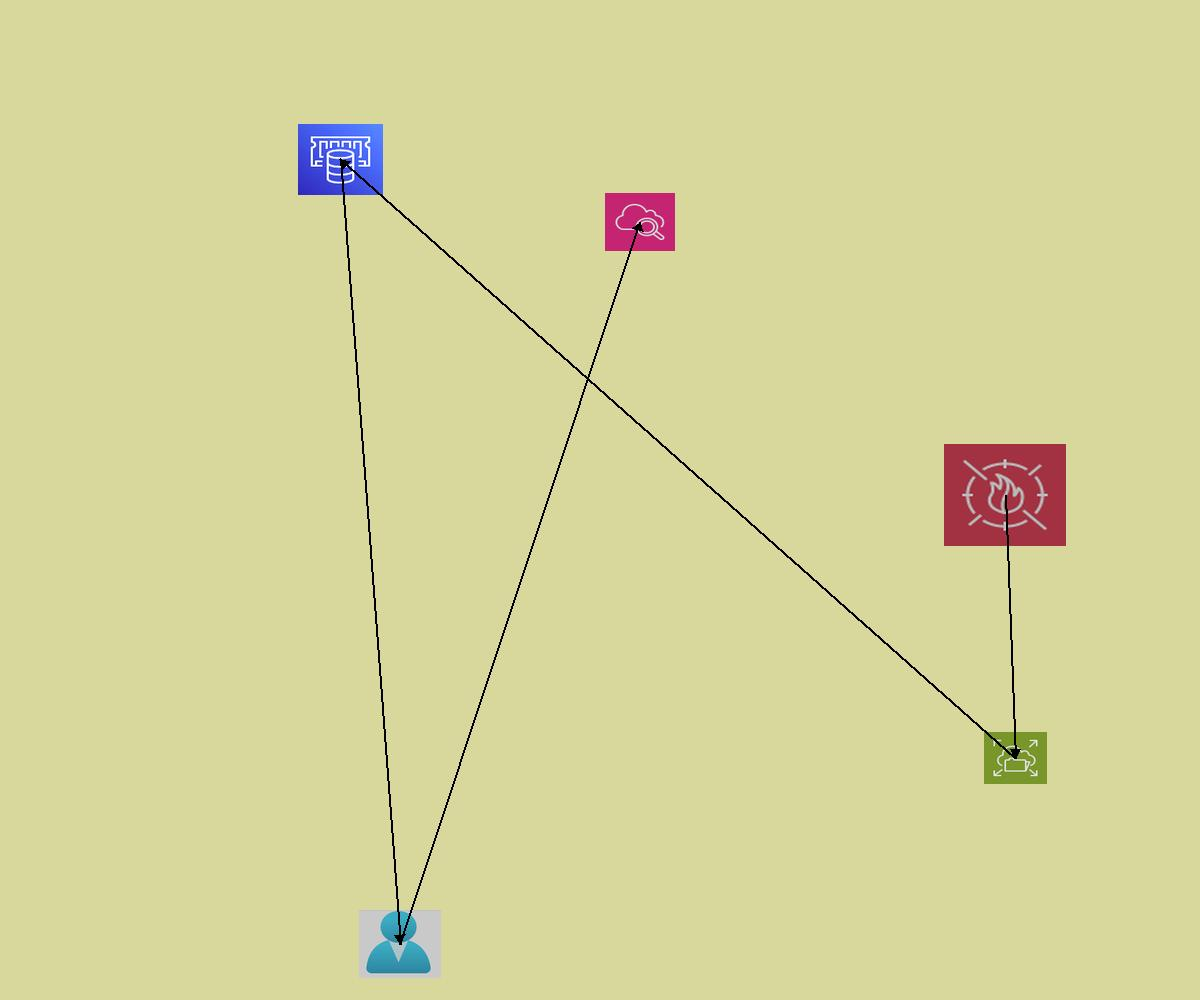AWS-CloudWatch: (605, 193, 675, 251)
AWS-EFS: (984, 732, 1047, 784)
AWS-ElastiCache: (298, 124, 383, 195)
AWS-WAF: (944, 444, 1066, 546)
Azure_users: (359, 910, 441, 978)
